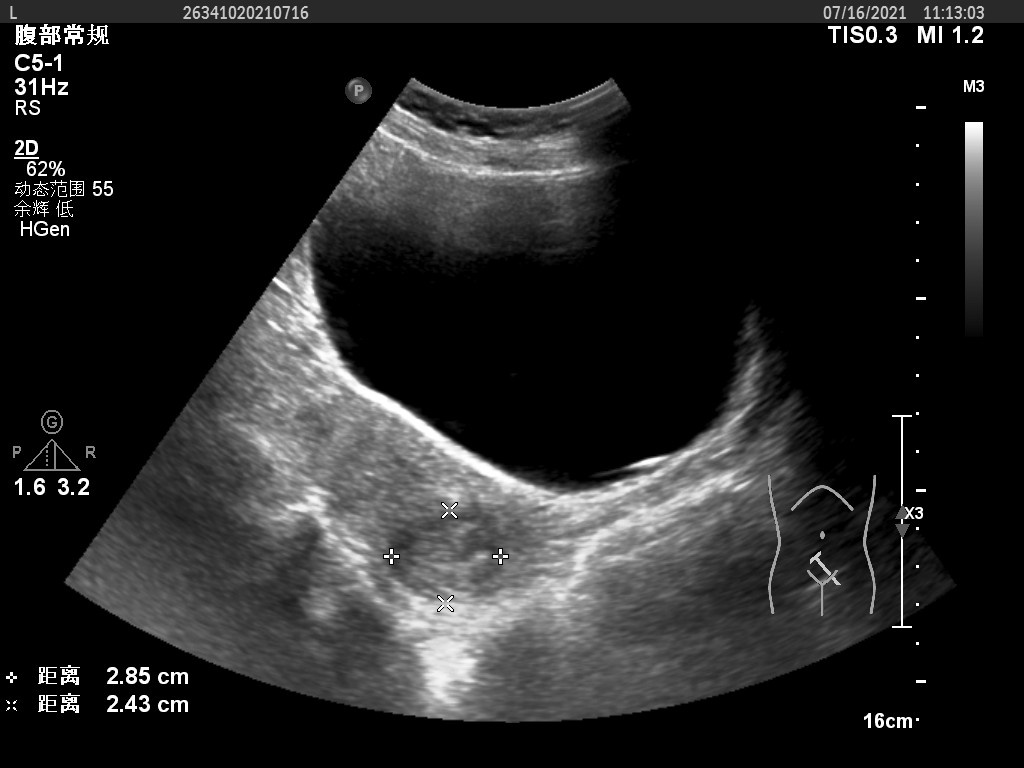肌瘤: (403, 518, 492, 599)
